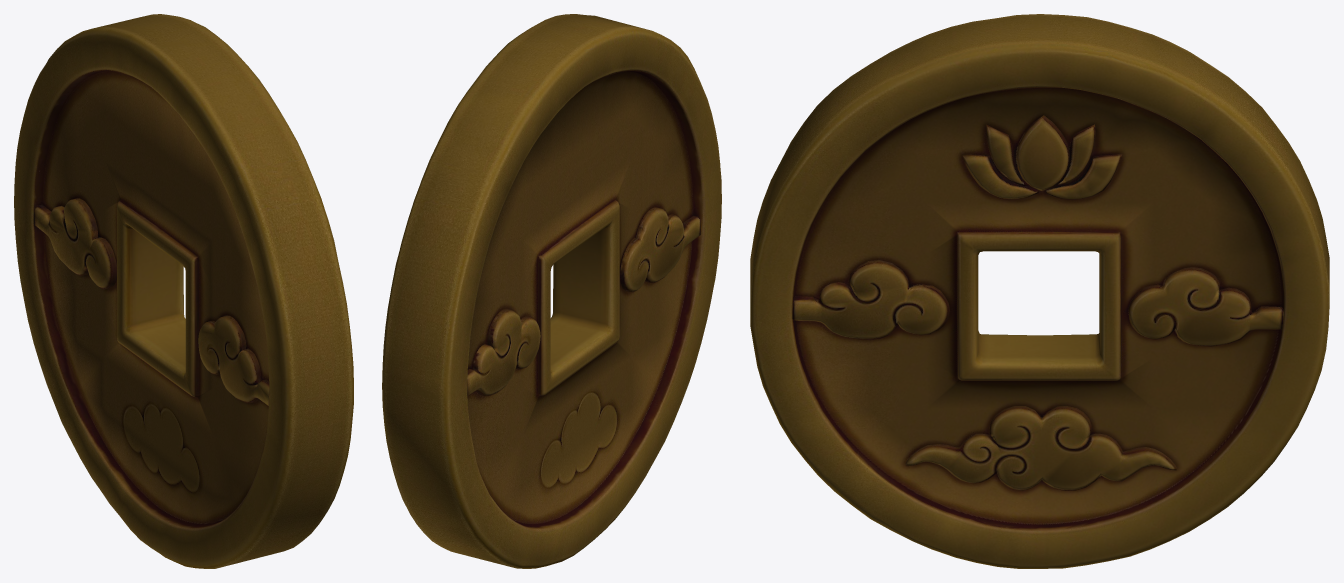
File: tripo_convert_5107da8e-31bc-4588-be4b-cacfdf69872b.fbx
3 renders of one model, left to right at view 1: azimuth 30°, elevation 25°; view 2: azimuth 150°, elevation 25°; view 3: azimuth 270°, elevation 25°, orthographic. The views are drawn at different scales.
Parts seen in each view (by area): view 1: tripo_node_5107da8e; view 2: tripo_node_5107da8e; view 3: tripo_node_5107da8e.
Boxes of the visible parts, box(x1,y1,x2,y2) form: tripo_node_5107da8e: box(14, 14, 353, 568); tripo_node_5107da8e: box(382, 14, 721, 568); tripo_node_5107da8e: box(750, 14, 1329, 568).
Bounding box in the file's own units: 0.1426 × 0.998 × 0.998.
1 material, 1 textured.
